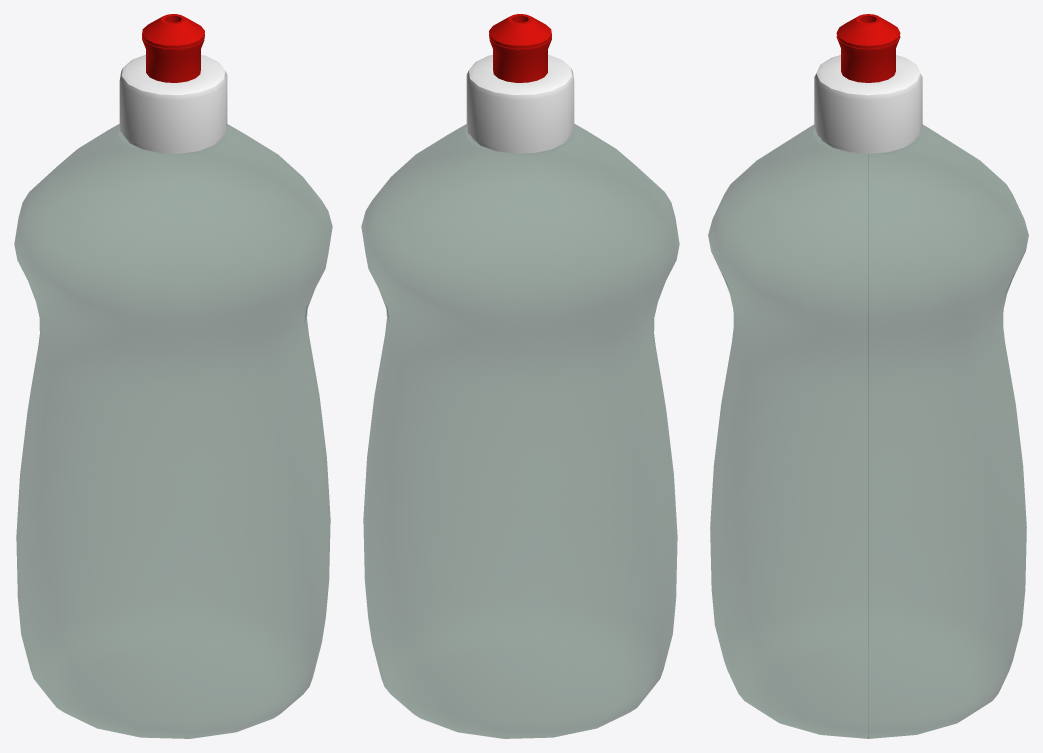
The model's file is detergent.glb.
The picture shows the model from 3 angles, left to right: view 1: azimuth 30°, elevation 25°; view 2: azimuth 150°, elevation 25°; view 3: azimuth 270°, elevation 25°; orthographic projection.
Parts seen in each view (by area): view 1: detergent; view 2: detergent; view 3: detergent.
Boxes of the visible parts, x1,y1,x2,y2 form: detergent: [14, 14, 332, 738]; detergent: [361, 14, 679, 738]; detergent: [708, 14, 1028, 738].
Bounding box in the file's own units: 0.0683 × 0.1579 × 0.0683.
Materials: 3 (3 with a texture image).
